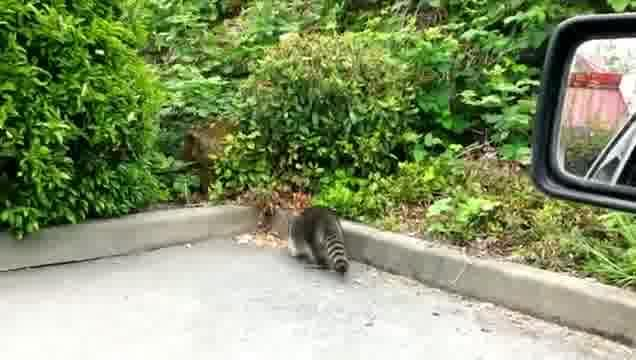raccoon: (288, 205, 350, 278)
